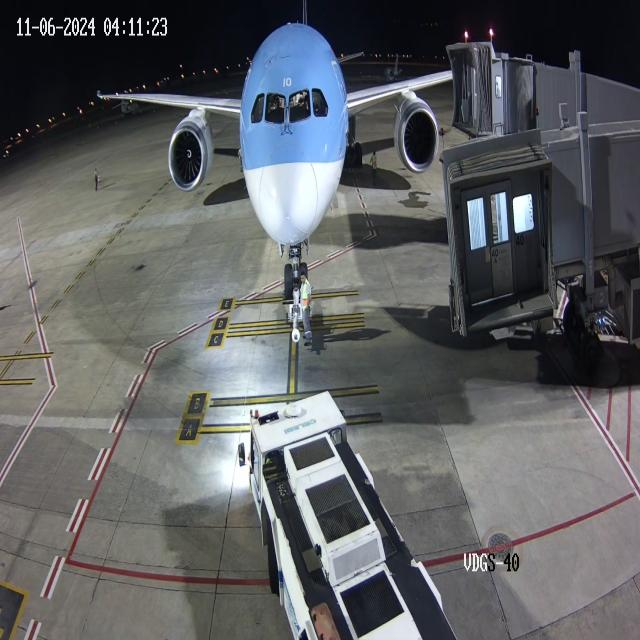bridge: (484, 24, 539, 139)
plane: (95, 6, 442, 298)
window: (247, 82, 331, 127)
